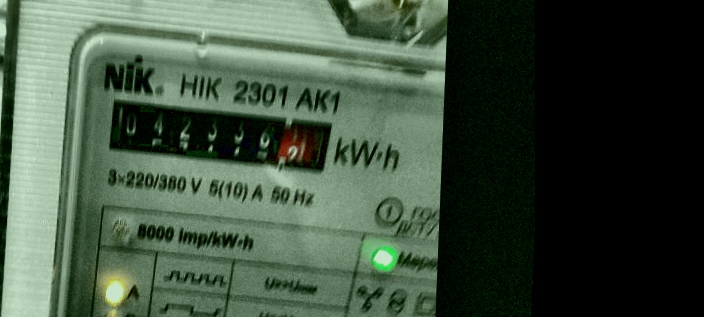0: (123, 108, 137, 138)
2: (175, 112, 194, 140)
3: (202, 113, 219, 143), (231, 115, 246, 144)
4: (149, 110, 166, 138)
6: (256, 122, 272, 150)
screen: (97, 90, 340, 181)
